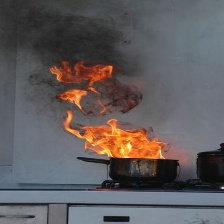fire: (38, 62, 170, 160)
smoke: (10, 3, 140, 61)
